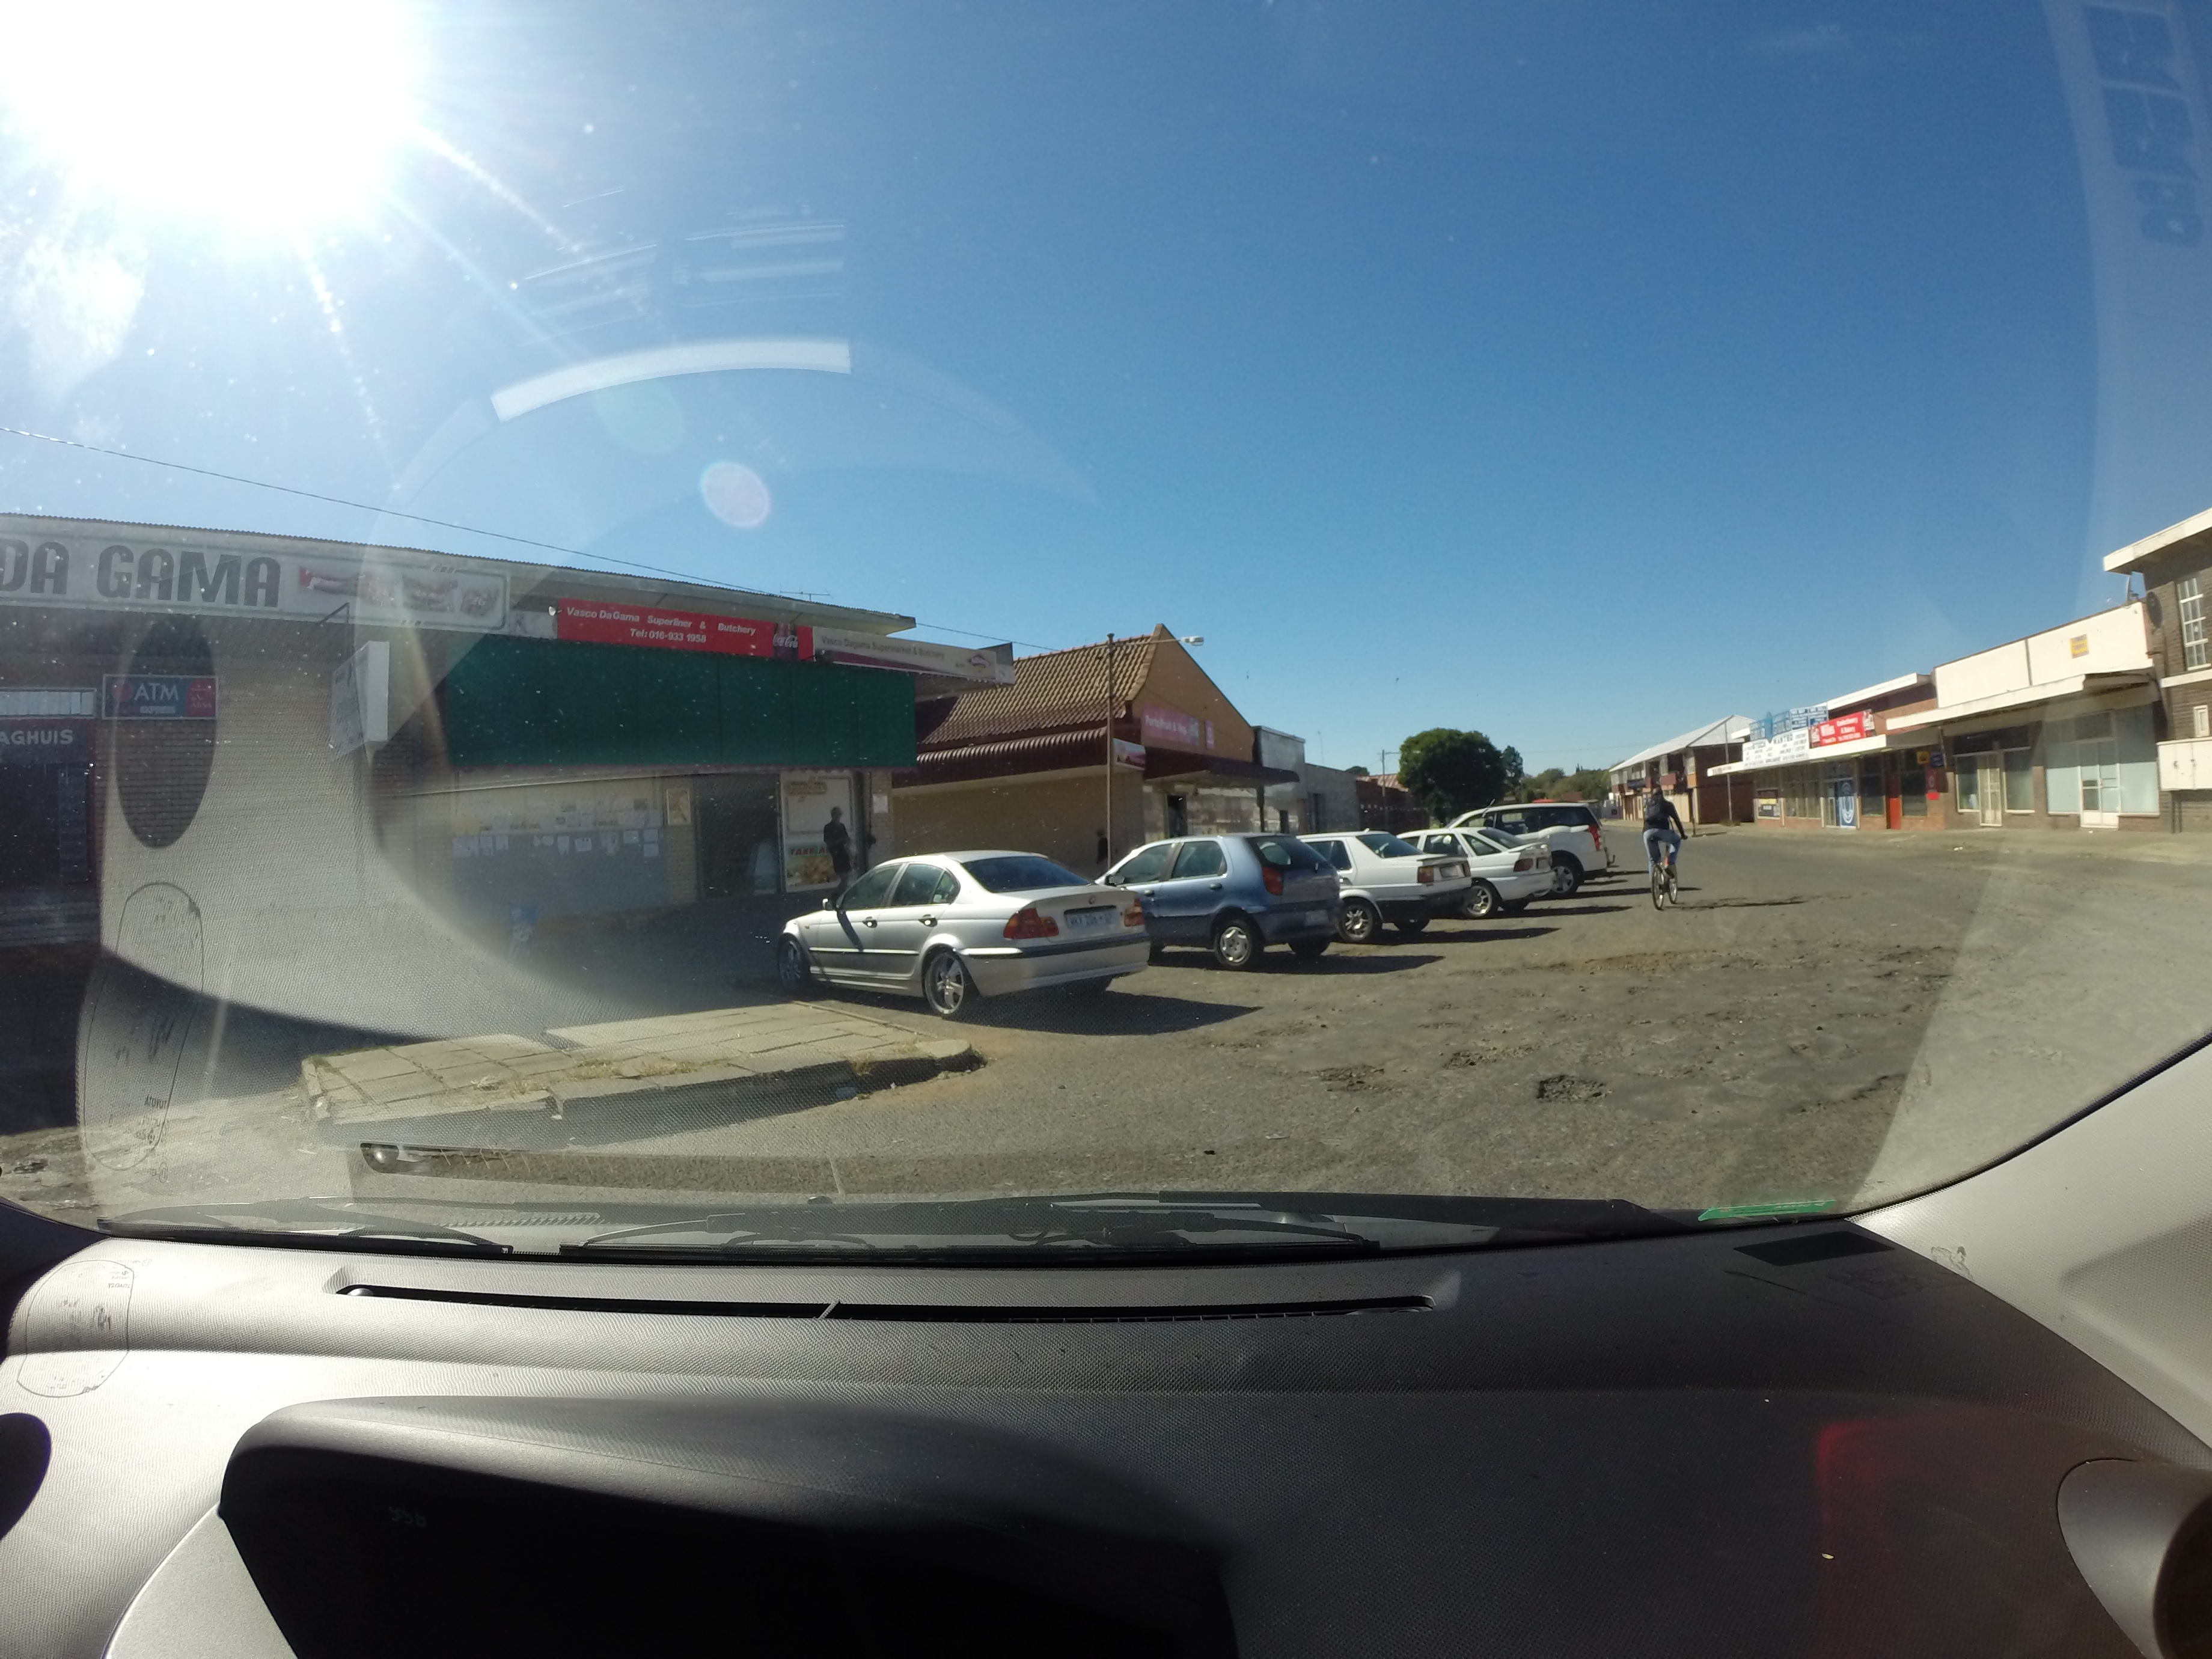pothole: (1367, 1033, 2019, 1140), (1843, 903, 2121, 1053), (1468, 1054, 1709, 1138)
